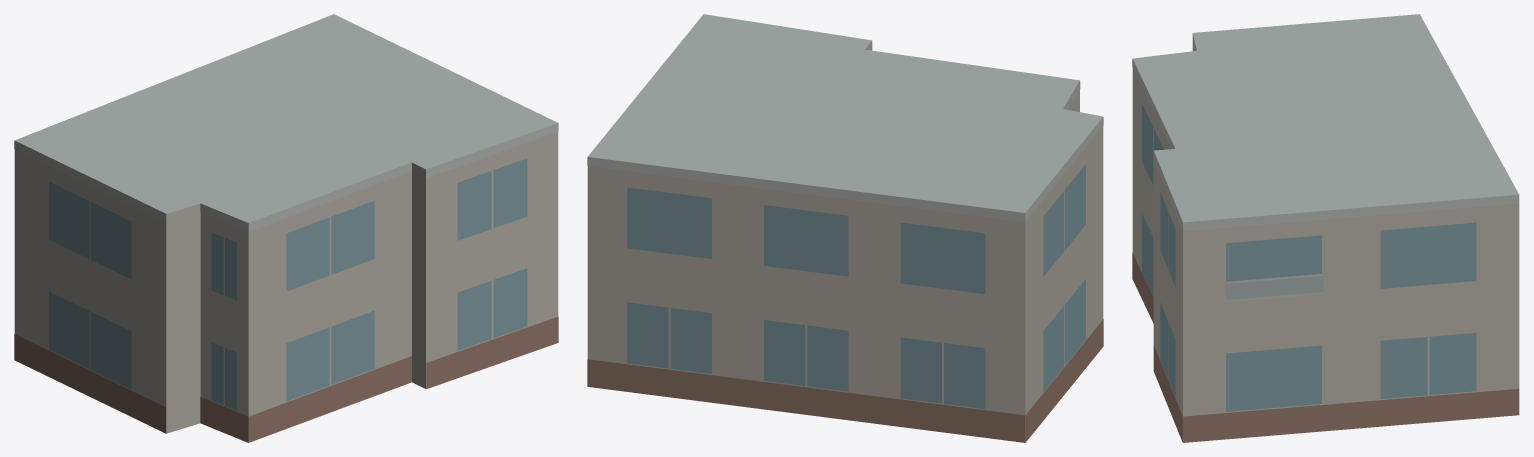
Rendered from survey-upis-32619610.glb.
The picture shows the model from 3 angles, left to right: view 1: azimuth 30°, elevation 25°; view 2: azimuth 150°, elevation 25°; view 3: azimuth 270°, elevation 25°; orthographic projection. The views are drawn at different scales.
Visible parts, largest first — view 1: survey-upis-32619610.tmp; view 2: survey-upis-32619610.tmp; view 3: survey-upis-32619610.tmp.
Boxes of the visible parts, x1,y1,x2,y2 form: survey-upis-32619610.tmp: [14, 14, 558, 442]; survey-upis-32619610.tmp: [587, 14, 1103, 442]; survey-upis-32619610.tmp: [1132, 14, 1519, 442].
Size of the model in its own units: 12.38 by 6.1 by 9.71.
